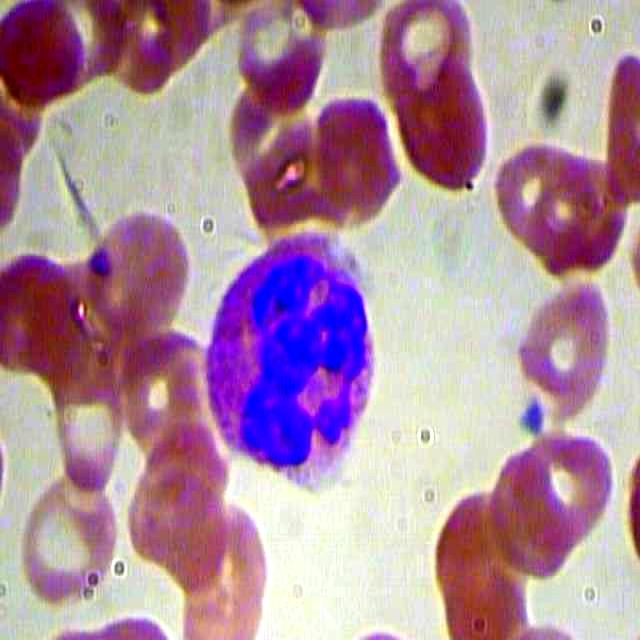Platelets: (513, 397, 549, 440)
RBC: (385, 57, 491, 199), (303, 85, 409, 227), (18, 467, 124, 608), (511, 279, 617, 420), (518, 423, 624, 564), (90, 196, 196, 337)
WBC: (188, 220, 387, 488)
